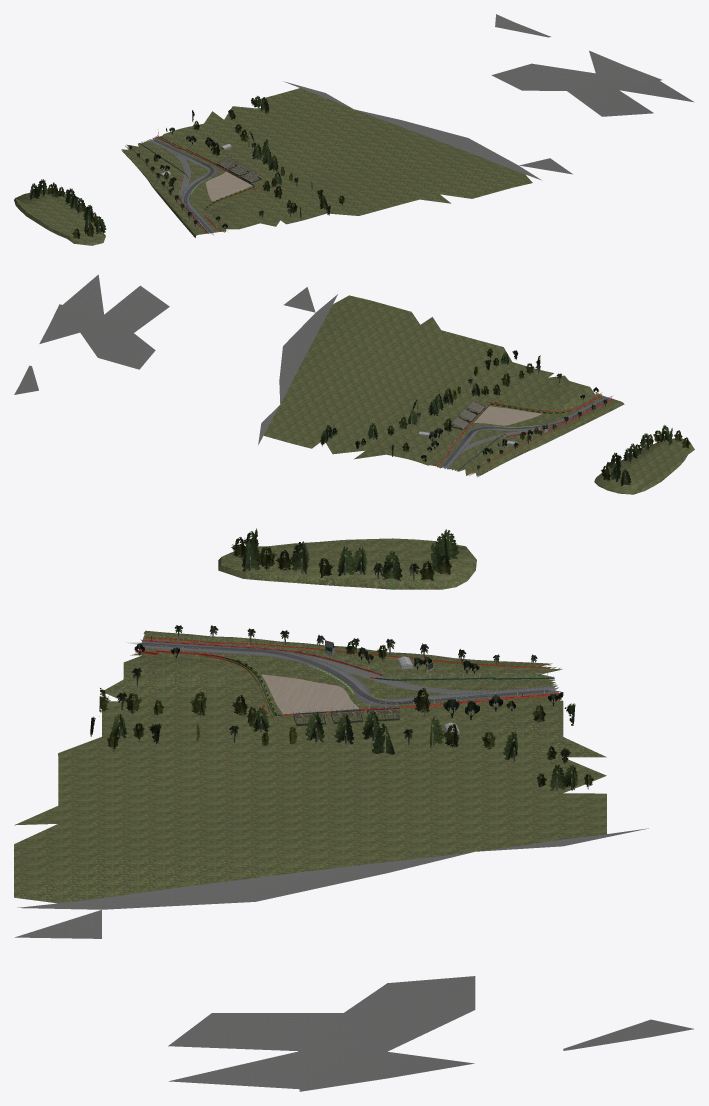
3 views of the same model, one above another, from view 1: azimuth 30°, elevation 25°; view 2: azimuth 150°, elevation 25°; view 3: azimuth 270°, elevation 25° (orthographic). The views are drawn at different scales.
Parts seen in each view (by area): view 1: tile_t08; view 2: tile_t08; view 3: tile_t08.
Boxes of the visible parts, x1=… form: tile_t08: x1=14, y1=14, x2=694, y2=245; tile_t08: x1=14, y1=274, x2=694, y2=494; tile_t08: x1=14, y1=528, x2=693, y2=1091.
Bounding box in the file's own units: 964 × 33.99 × 496.
36 materials, 36 textured.
